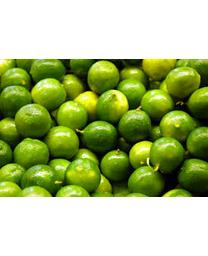lemon: (150, 135, 186, 174), (22, 164, 62, 194), (46, 125, 80, 160), (68, 159, 103, 192), (83, 122, 119, 154), (165, 67, 202, 98), (14, 104, 50, 134), (130, 166, 165, 196), (97, 91, 128, 124), (87, 61, 120, 92), (33, 79, 67, 107), (15, 137, 48, 165), (121, 110, 151, 140), (161, 112, 196, 137), (56, 100, 88, 126), (103, 152, 129, 181)
